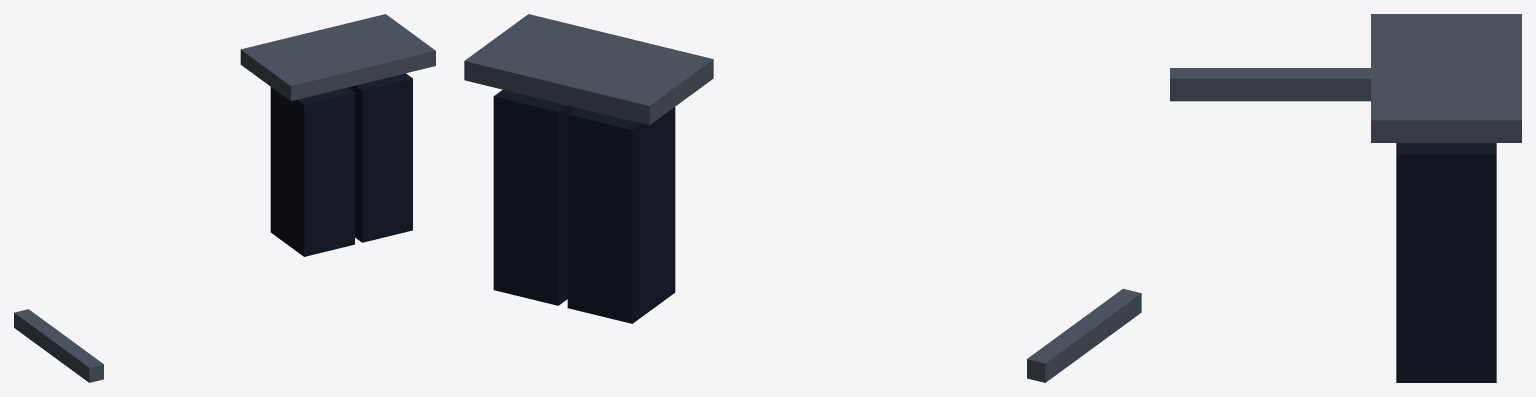
The model's file is antenna_e1_l2.glb.
3 renders of one model, left to right at view 1: azimuth 30°, elevation 25°; view 2: azimuth 150°, elevation 25°; view 3: azimuth 270°, elevation 25°, orthographic. The views are drawn at different scales.
Parts seen in each view (by area): view 1: Base; view 2: Base; view 3: Base.
Part boxes in pixels (left/top/right/bottom): Base: left=14, top=14, right=435, bottom=382; Base: left=464, top=14, right=1141, bottom=382; Base: left=1170, top=14, right=1521, bottom=382.
Size of the model in its own units: 5.7 by 2.4 by 2.8.
